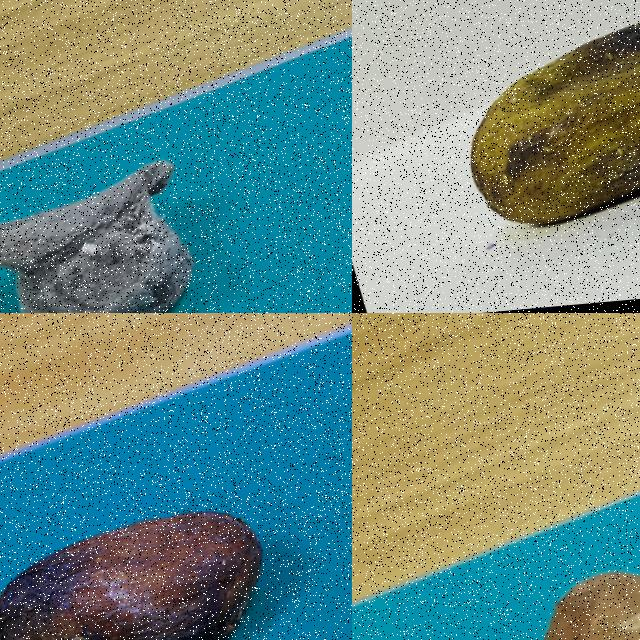Agglomerated_cocoabeans: (0, 86, 304, 312)
Fine_cocoabeans: (0, 349, 351, 639), (417, 0, 639, 294), (441, 495, 639, 639)
